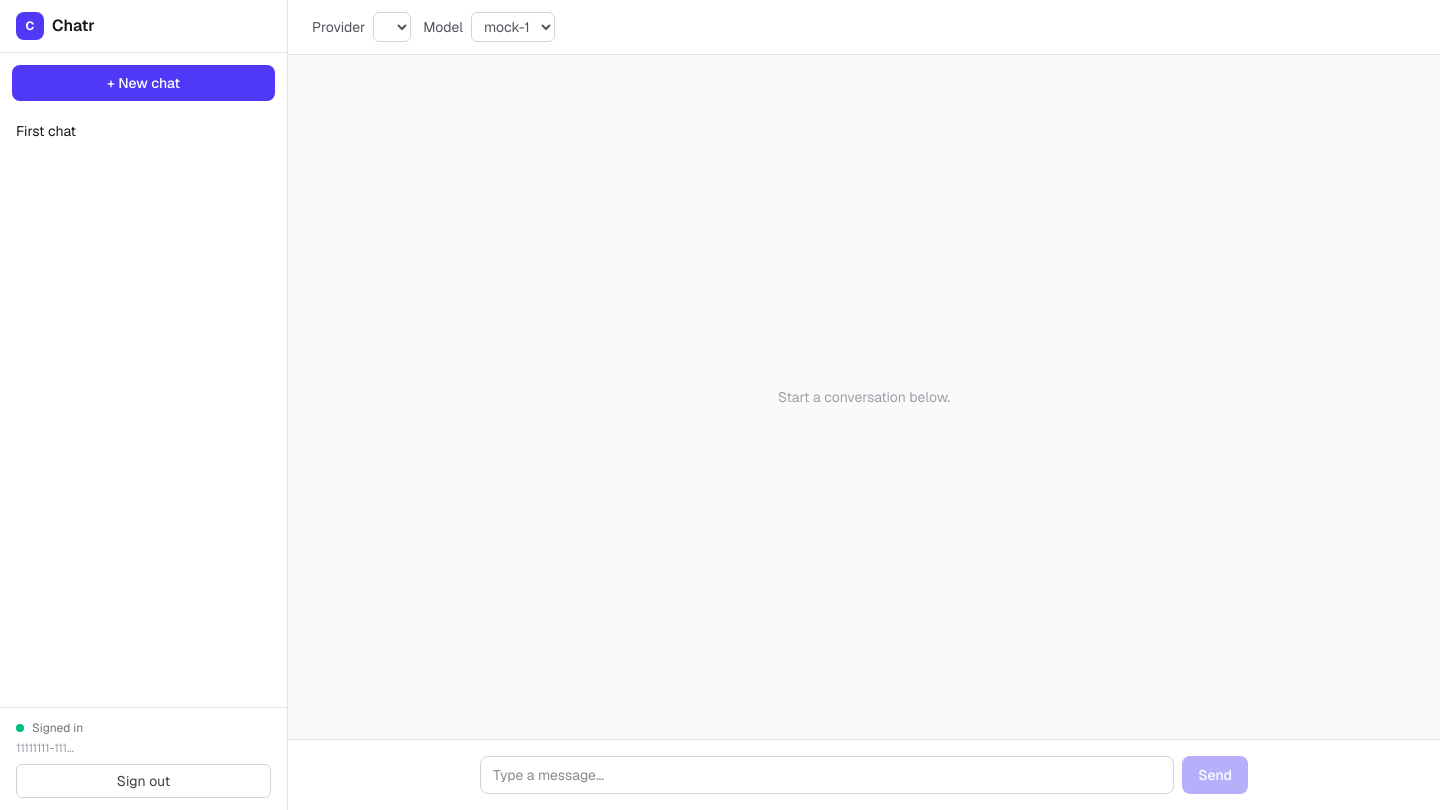
Test: ChatWorkspace › loads the selected conversation's messages
Click the text "First chat". click: click(46, 131)
box: [16,122,76,140]
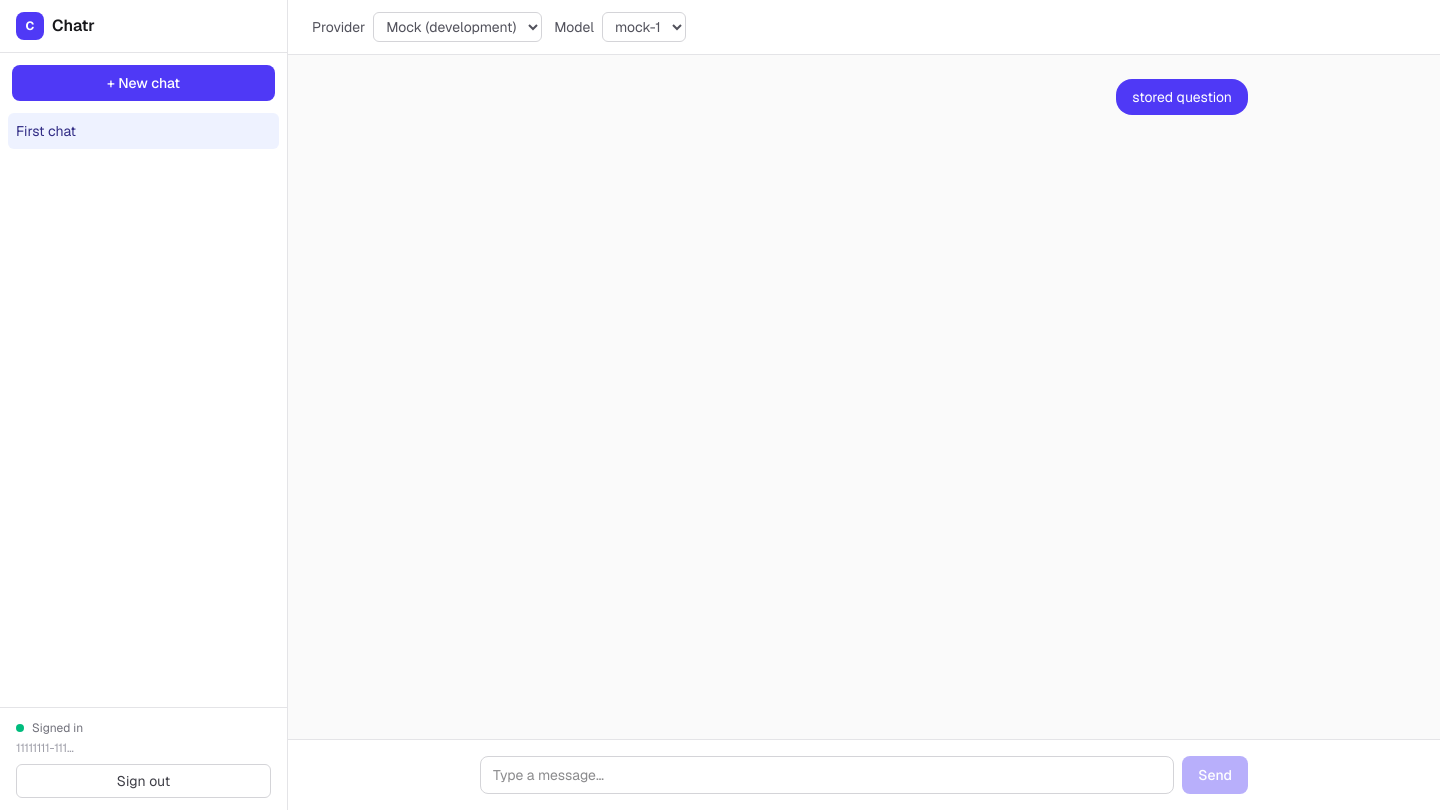
Expected: the text "stored question" is shown, [1116,79,1248,115]
